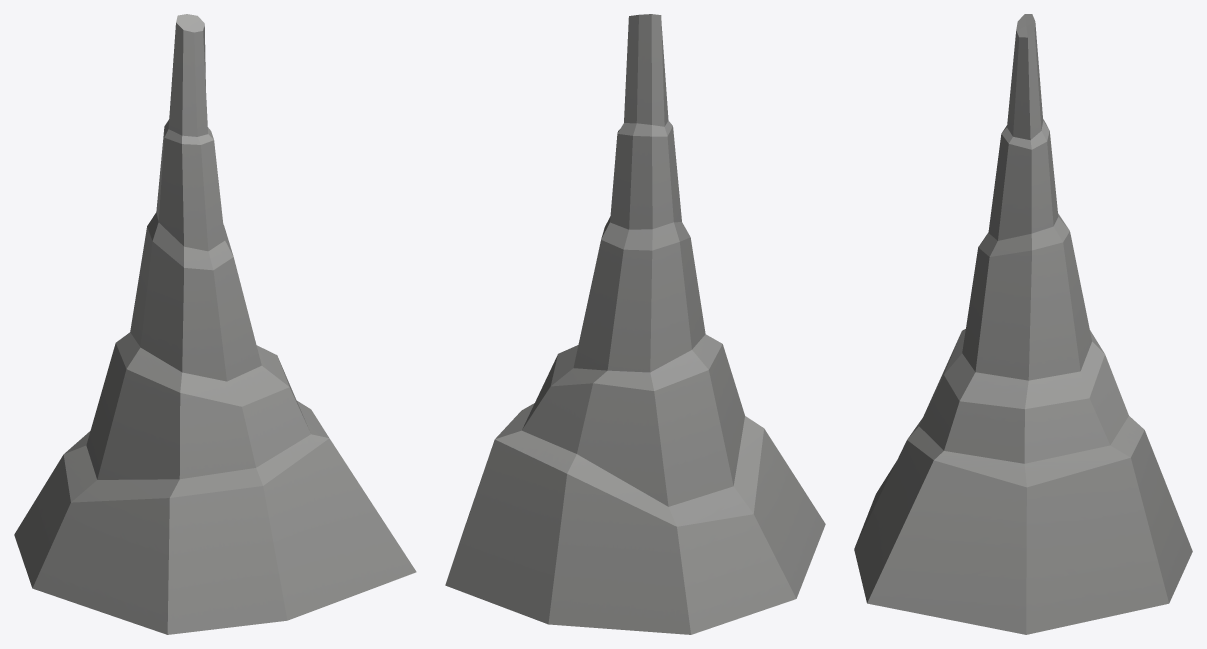
The model's file is Cavern_Stalagmite-03.fbx.
3 renders of one model, left to right at view 1: azimuth 30°, elevation 25°; view 2: azimuth 150°, elevation 25°; view 3: azimuth 270°, elevation 25°, orthographic. The views are drawn at different scales.
Parts seen in each view (by area): view 1: Cavern_Stalagmite-03; view 2: Cavern_Stalagmite-03; view 3: Cavern_Stalagmite-03.
Boxes of the visible parts, <box> form: Cavern_Stalagmite-03: <box>14,14,416,634</box>; Cavern_Stalagmite-03: <box>445,14,825,634</box>; Cavern_Stalagmite-03: <box>854,14,1192,634</box>.
Size of the model in its own units: 97.59 by 157 by 89.43.
Materials: 1 (1 with a texture image).
